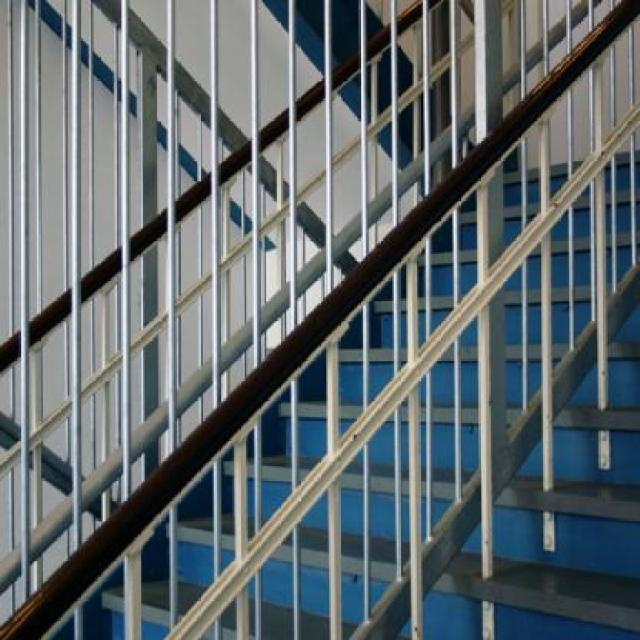stair: (104, 169, 640, 638)
